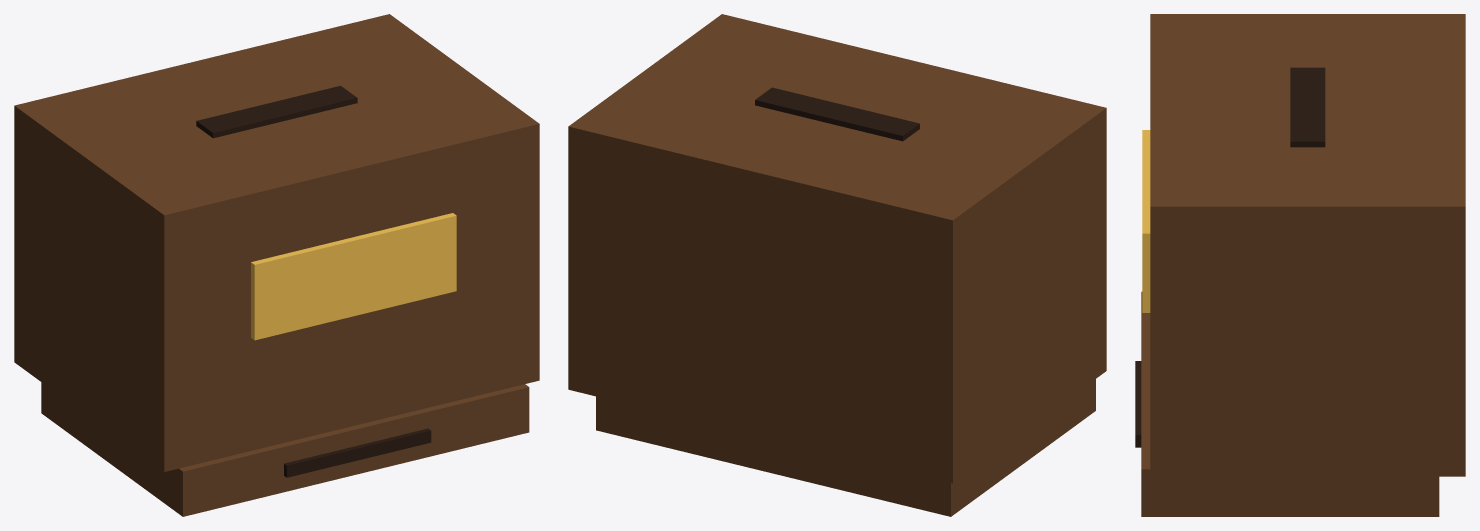
File: collection_box.glb
The picture shows the model from 3 angles, left to right: view 1: azimuth 30°, elevation 25°; view 2: azimuth 150°, elevation 25°; view 3: azimuth 270°, elevation 25°; orthographic projection. The views are drawn at different scales.
Visible parts, largest first — view 1: box_collection_wood, drawer_collection_wood, plate_collection_brass, slot_collection_dark, drawer_collection_dark; view 2: box_collection_wood, drawer_collection_wood, slot_collection_dark; view 3: box_collection_wood, drawer_collection_wood, slot_collection_dark, plate_collection_brass, drawer_collection_dark.
Part boxes in pixels (bbox=[...]): box_collection_wood: bbox=[14, 14, 539, 471]; drawer_collection_wood: bbox=[41, 382, 529, 516]; plate_collection_brass: bbox=[251, 213, 456, 340]; slot_collection_dark: bbox=[196, 85, 357, 138]; drawer_collection_dark: bbox=[284, 428, 431, 477]; box_collection_wood: bbox=[568, 14, 1106, 483]; drawer_collection_wood: bbox=[596, 379, 1095, 516]; slot_collection_dark: bbox=[755, 87, 919, 141]; box_collection_wood: bbox=[1150, 14, 1465, 476]; drawer_collection_wood: bbox=[1141, 291, 1439, 516]; slot_collection_dark: bbox=[1290, 67, 1325, 147]; plate_collection_brass: bbox=[1142, 130, 1150, 312]; drawer_collection_dark: bbox=[1135, 361, 1141, 447].
Size of the model in its own units: 0.26 by 0.2035 by 0.1885.
